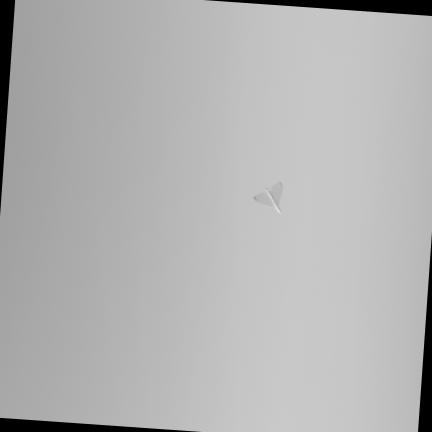Shahed: (253, 181, 282, 211)
